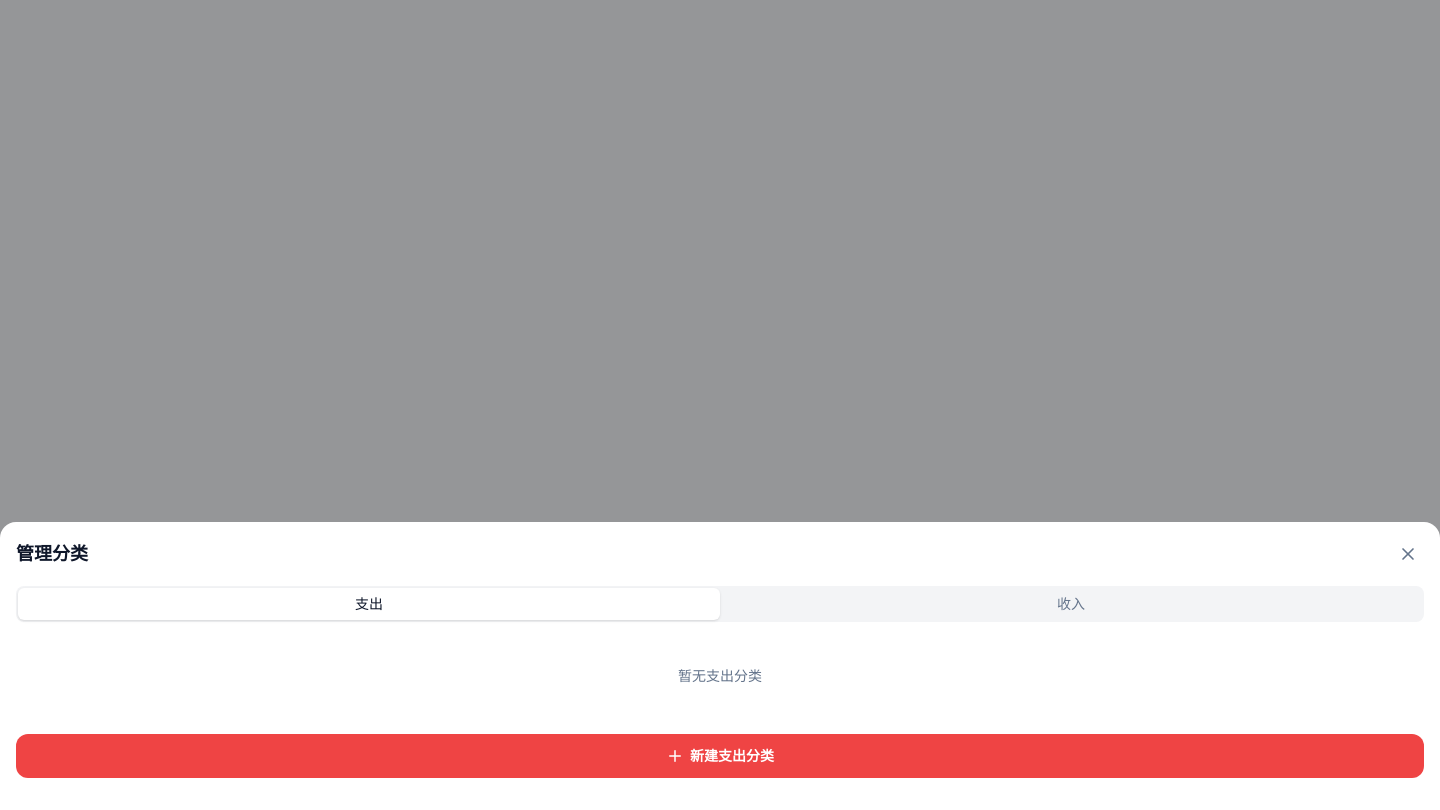
Test: CategorySheet › 点击新建进入表单模式，名称为空时提交按钮禁用
Click the 4th button at (720, 756), box [16,734,1424,778]
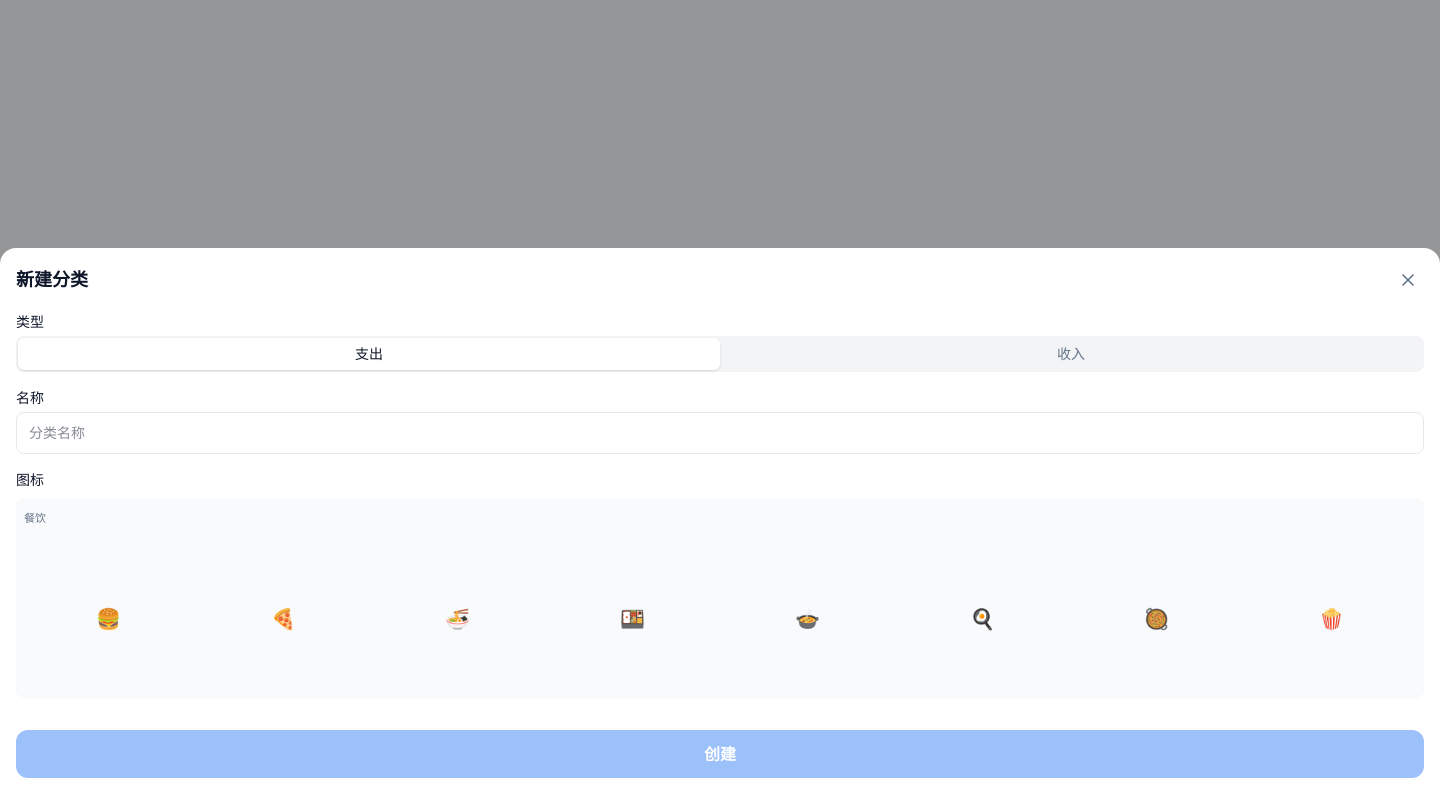
expect the text "新建分类" is shown: met, box [16,266,88,294]
expect the button "创建" is disabled: met, box [16,730,1424,778]
